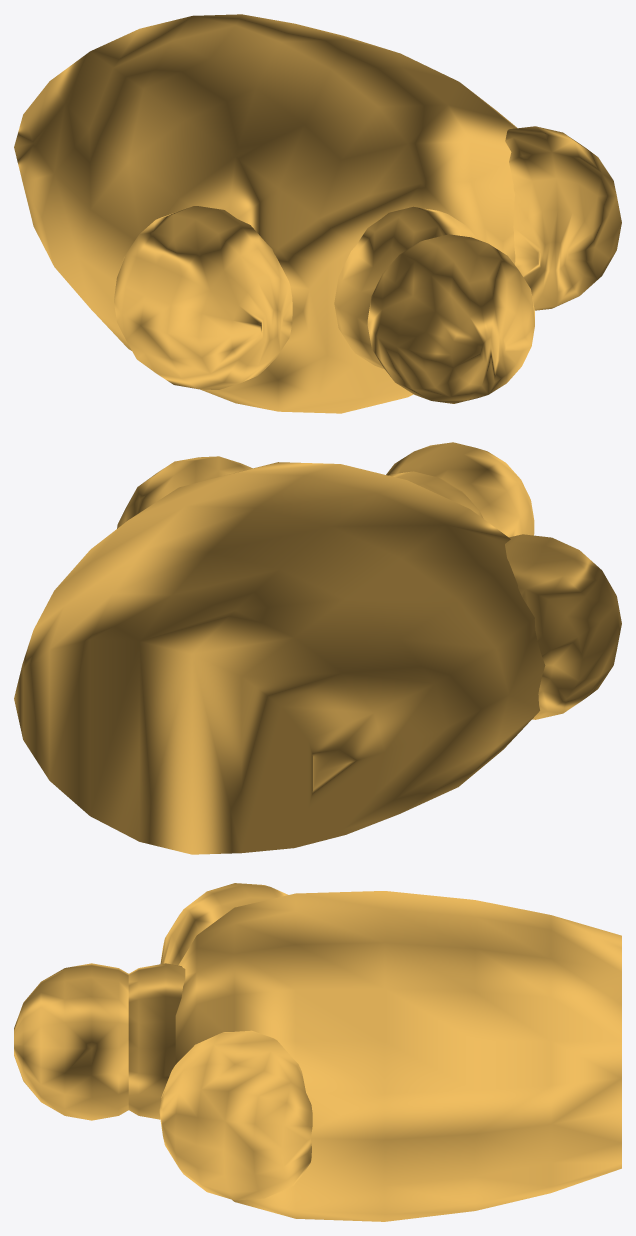
The model's file is upper_body.dae.
The picture shows the model from 3 angles, top to bottom: view 1: azimuth 30°, elevation 25°; view 2: azimuth 150°, elevation 25°; view 3: azimuth 270°, elevation 25°; orthographic projection. The views are drawn at different scales.
Visible parts, largest first — view 1: Node_000001982B1E0180; view 2: Node_000001982B1E0180; view 3: Node_000001982B1E0180.
Part boxes in pixels (left/top/right/bottom): Node_000001982B1E0180: left=14, top=14, right=621, bottom=413; Node_000001982B1E0180: left=14, top=442, right=621, bottom=854; Node_000001982B1E0180: left=14, top=883, right=621, bottom=1221.
Bounding box in the file's own units: 0.3751 × 0.2117 × 0.44.
